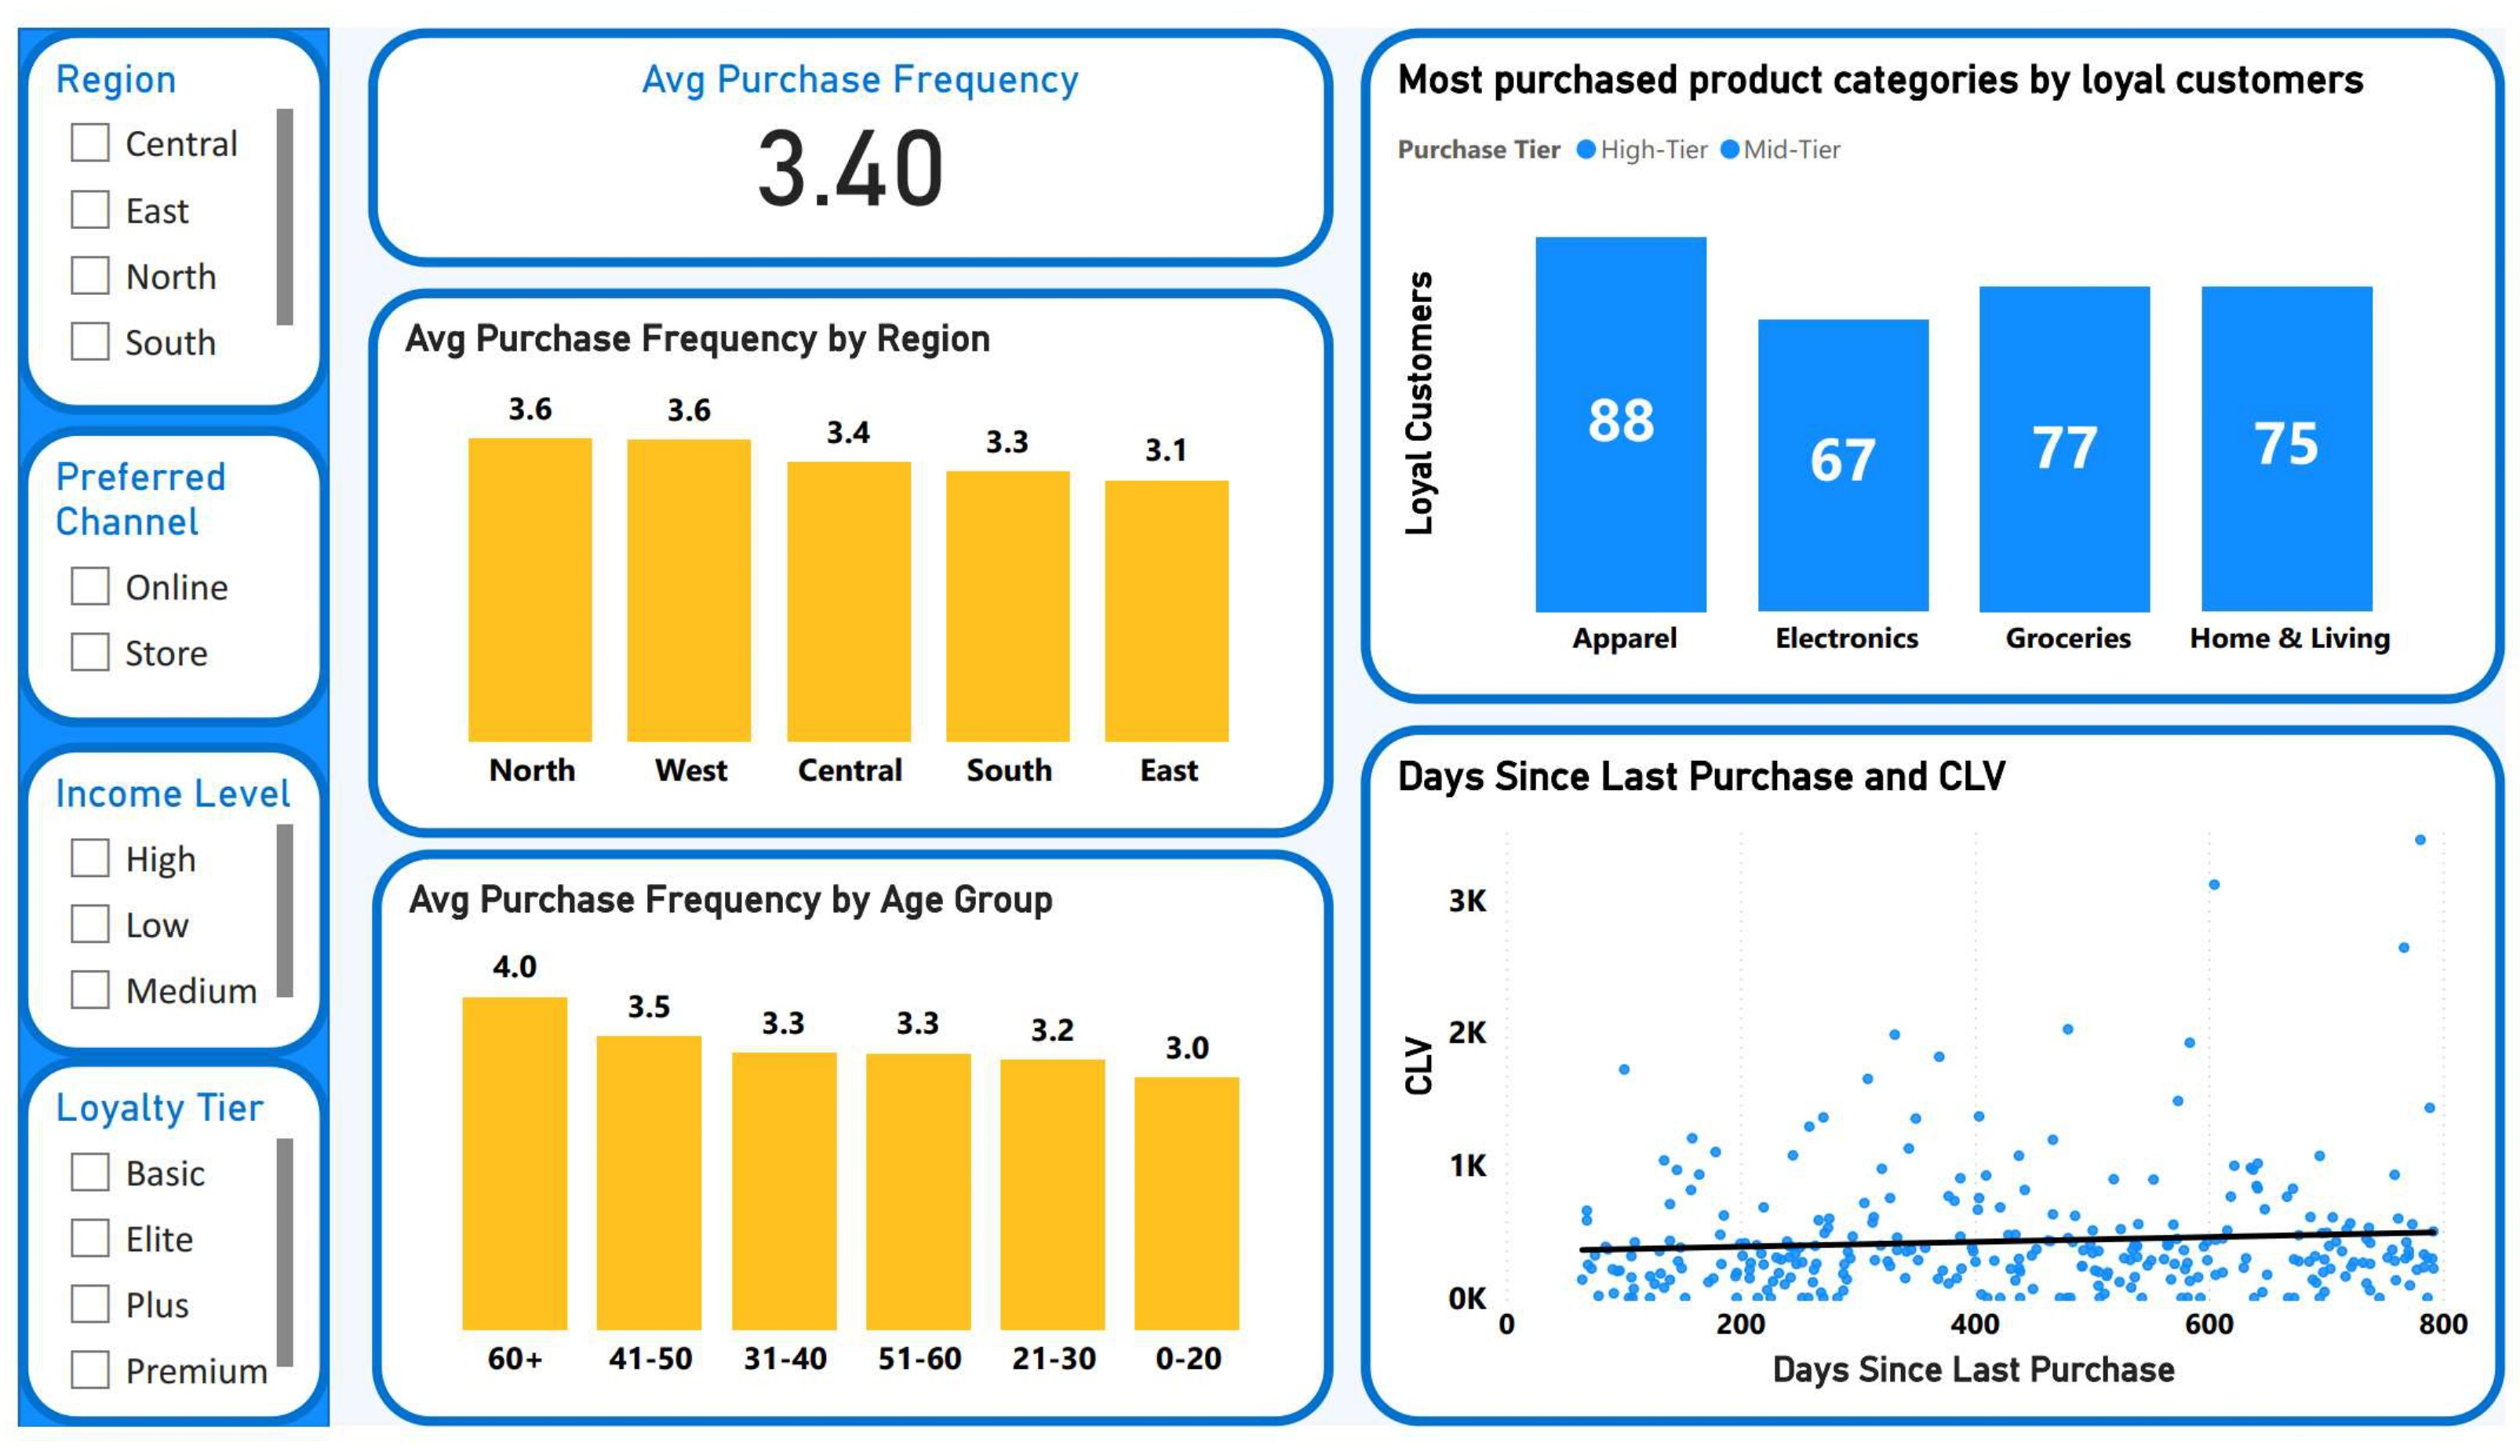

This screenshot's page, from the dashboard's own definition file:
{"tool":"powerbi","page":{"name":"Segmentation","canvas":[1280,720],"ordinal":3},"visuals":[{"type":"card","title":"Avg Purchase Frequency","fields":{"Values":["Measures (2).Avg Purchase Frequency"]},"box":[180.3,0,496.3,122.6],"z":0},{"type":"columnChart","fields":{"Category":["Customer_Demographics.Age Group"],"Y":["Measures (2).Avg Purchase Frequency"]},"box":[181.8,422.7,494.9,297.2],"z":1000},{"type":"columnChart","fields":{"Category":["Customer_Demographics.Region"],"Y":["Measures (2).Avg Purchase Frequency"]},"box":[180.3,134.2,496.3,282.8],"z":2000},{"type":"columnChart","title":"Most purchased product categories by loyal customers","fields":{"Category":["Customer_Transactions.Product_Category","Churn_Labelled_Customers.Churn_Flag"],"Series":["Customer_Transactions.Purchase Tier"],"Y":["CountNonNull(Customer_Transactions.Transaction_ID)"]},"box":[691.1,0,588.6,347.7],"z":3000},{"type":"shape","box":[0,0,160.2,720.8],"z":4000},{"type":"slicer","title":"Region","fields":{"Values":["Customer_Demographics.Region"]},"box":[0,0,160.2,199.3],"z":5000},{"type":"slicer","title":"Preferred Channel","fields":{"Values":["Customer_Demographics.Preferred_Channel"]},"box":[0,204.7,160.2,154.8],"z":6000},{"type":"slicer","title":"Income Level","fields":{"Values":["Customer_Demographics.Income_Level"]},"box":[0,368.4,160.2,162],"z":7000},{"type":"slicer","title":"Loyalty Tier","fields":{"Values":["Loyalty_Program.Loyalty_Tier"]},"box":[0,529.6,160.2,190.4],"z":8000},{"type":"scatterChart","fields":{"X":["Churn_Labelled_Customers.Days Since Last Purchase"],"Y":["Customer_Demographics.CLV"]},"box":[691.1,359.2,588.6,360.7],"z":9000}]}

Visuals, with their boxes in screenshot pixels (x1, y1, x2, y2), scaled from the page's 1280x720 canvas onto the 2520x1456 screenshot:
"Avg Purchase Frequency" card: box(355, 0, 1332, 248)
columnChart - Customer_Demographics.Age Group x Measures (2).Avg Purchase Frequency: box(358, 855, 1332, 1455)
columnChart - Customer_Demographics.Region x Measures (2).Avg Purchase Frequency: box(355, 271, 1332, 843)
"Most purchased product categories by loyal customers" columnChart: box(1360, 0, 2519, 703)
shape: box(0, 0, 315, 1455)
"Region" slicer: box(0, 0, 315, 403)
"Preferred Channel" slicer: box(0, 414, 315, 727)
"Income Level" slicer: box(0, 745, 315, 1072)
"Loyalty Tier" slicer: box(0, 1071, 315, 1455)
scatterChart - Churn_Labelled_Customers.Days Since Last Purchase x Customer_Demographics.CLV: box(1360, 726, 2519, 1455)
